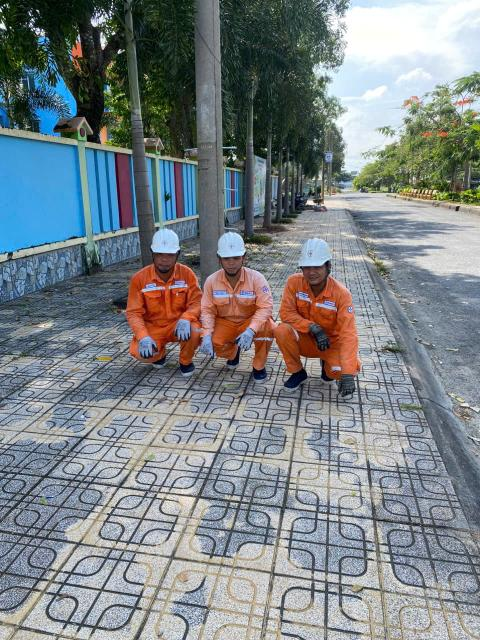gloves: (304, 320, 332, 355), (337, 375, 362, 406), (137, 332, 161, 363), (197, 330, 217, 362), (172, 318, 192, 342), (234, 331, 253, 354)
helmet: (282, 236, 361, 271), (211, 226, 259, 263), (150, 225, 190, 260)
shoes: (318, 351, 349, 404), (244, 348, 273, 392), (283, 359, 313, 397), (227, 346, 246, 380), (148, 343, 167, 376), (176, 356, 199, 380)
